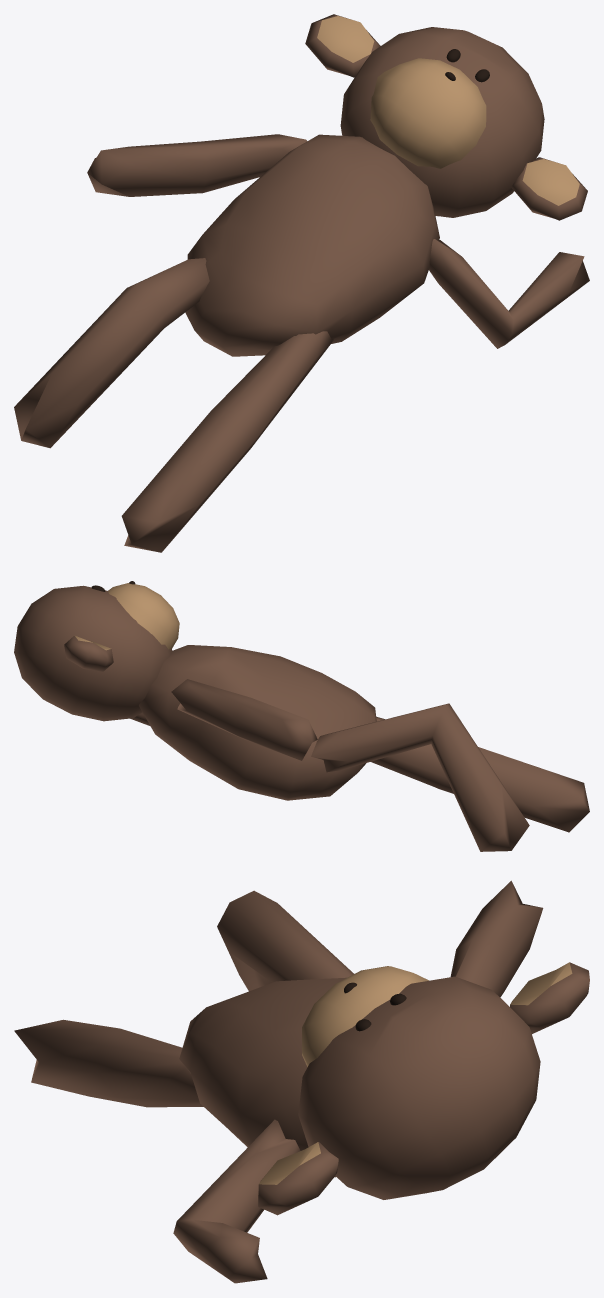
Rendered from monkey_stuffed_animal.fbx.
The picture shows the model from 3 angles, top to bottom: view 1: azimuth 30°, elevation 25°; view 2: azimuth 150°, elevation 25°; view 3: azimuth 270°, elevation 25°; orthographic projection. The views are drawn at different scales.
Parts seen in each view (by area): view 1: monkey_stuffed_animal; view 2: monkey_stuffed_animal; view 3: monkey_stuffed_animal.
Boxes of the visible parts, x1=… form: monkey_stuffed_animal: x1=14, y1=14, x2=589, y2=552; monkey_stuffed_animal: x1=14, y1=581, x2=589, y2=851; monkey_stuffed_animal: x1=14, y1=880, x2=589, y2=1283.
Size of the model in its own units: 1.48 by 0.7236 by 1.05.
